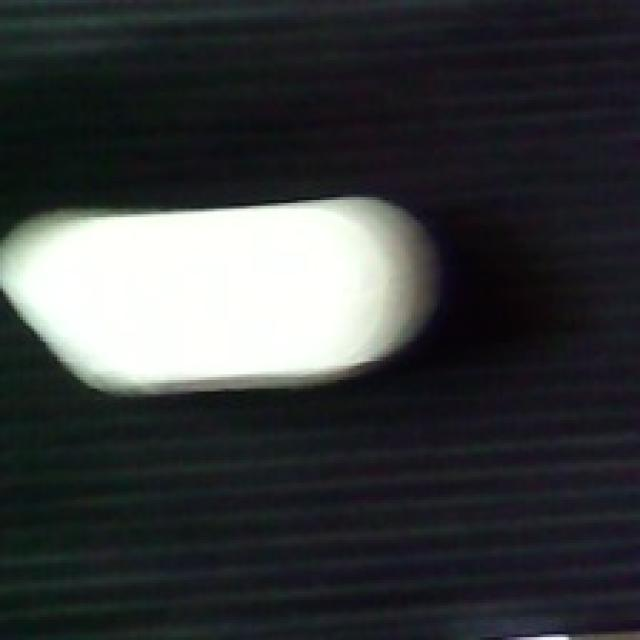defected: (3, 194, 451, 403)
